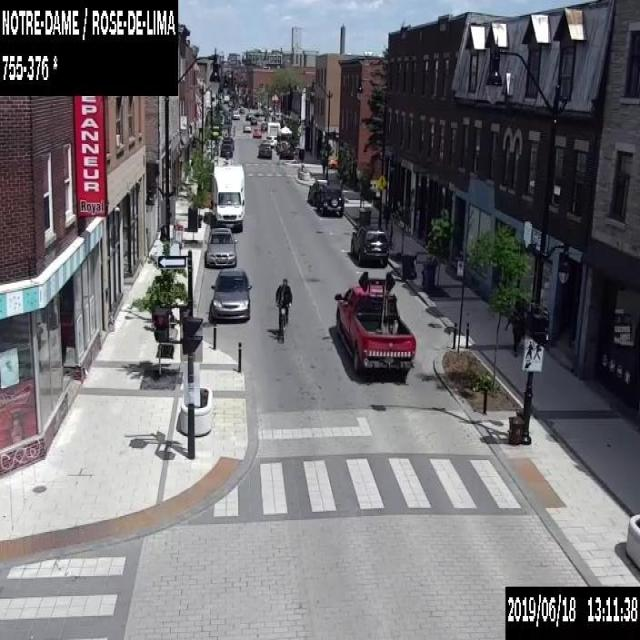cyclist: (274, 277, 292, 343)
pedestrian: (504, 304, 525, 357)
vehicle: (334, 270, 415, 374), (207, 268, 251, 322), (210, 164, 244, 231), (350, 224, 388, 265), (204, 226, 238, 265), (317, 185, 344, 216), (307, 181, 325, 203), (257, 142, 271, 158), (278, 145, 293, 158), (267, 121, 279, 137), (220, 143, 232, 156), (221, 136, 234, 148), (266, 134, 276, 146), (327, 156, 337, 168), (252, 126, 261, 138), (242, 124, 250, 132), (245, 112, 253, 120), (232, 109, 239, 118), (260, 121, 267, 129), (228, 100, 235, 107), (250, 117, 257, 124), (222, 94, 228, 102), (239, 108, 244, 112)
